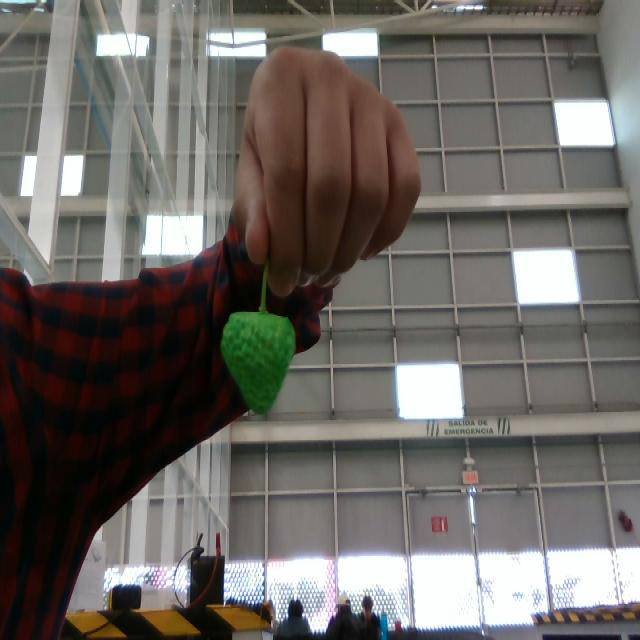verde: (221, 311, 295, 417)
